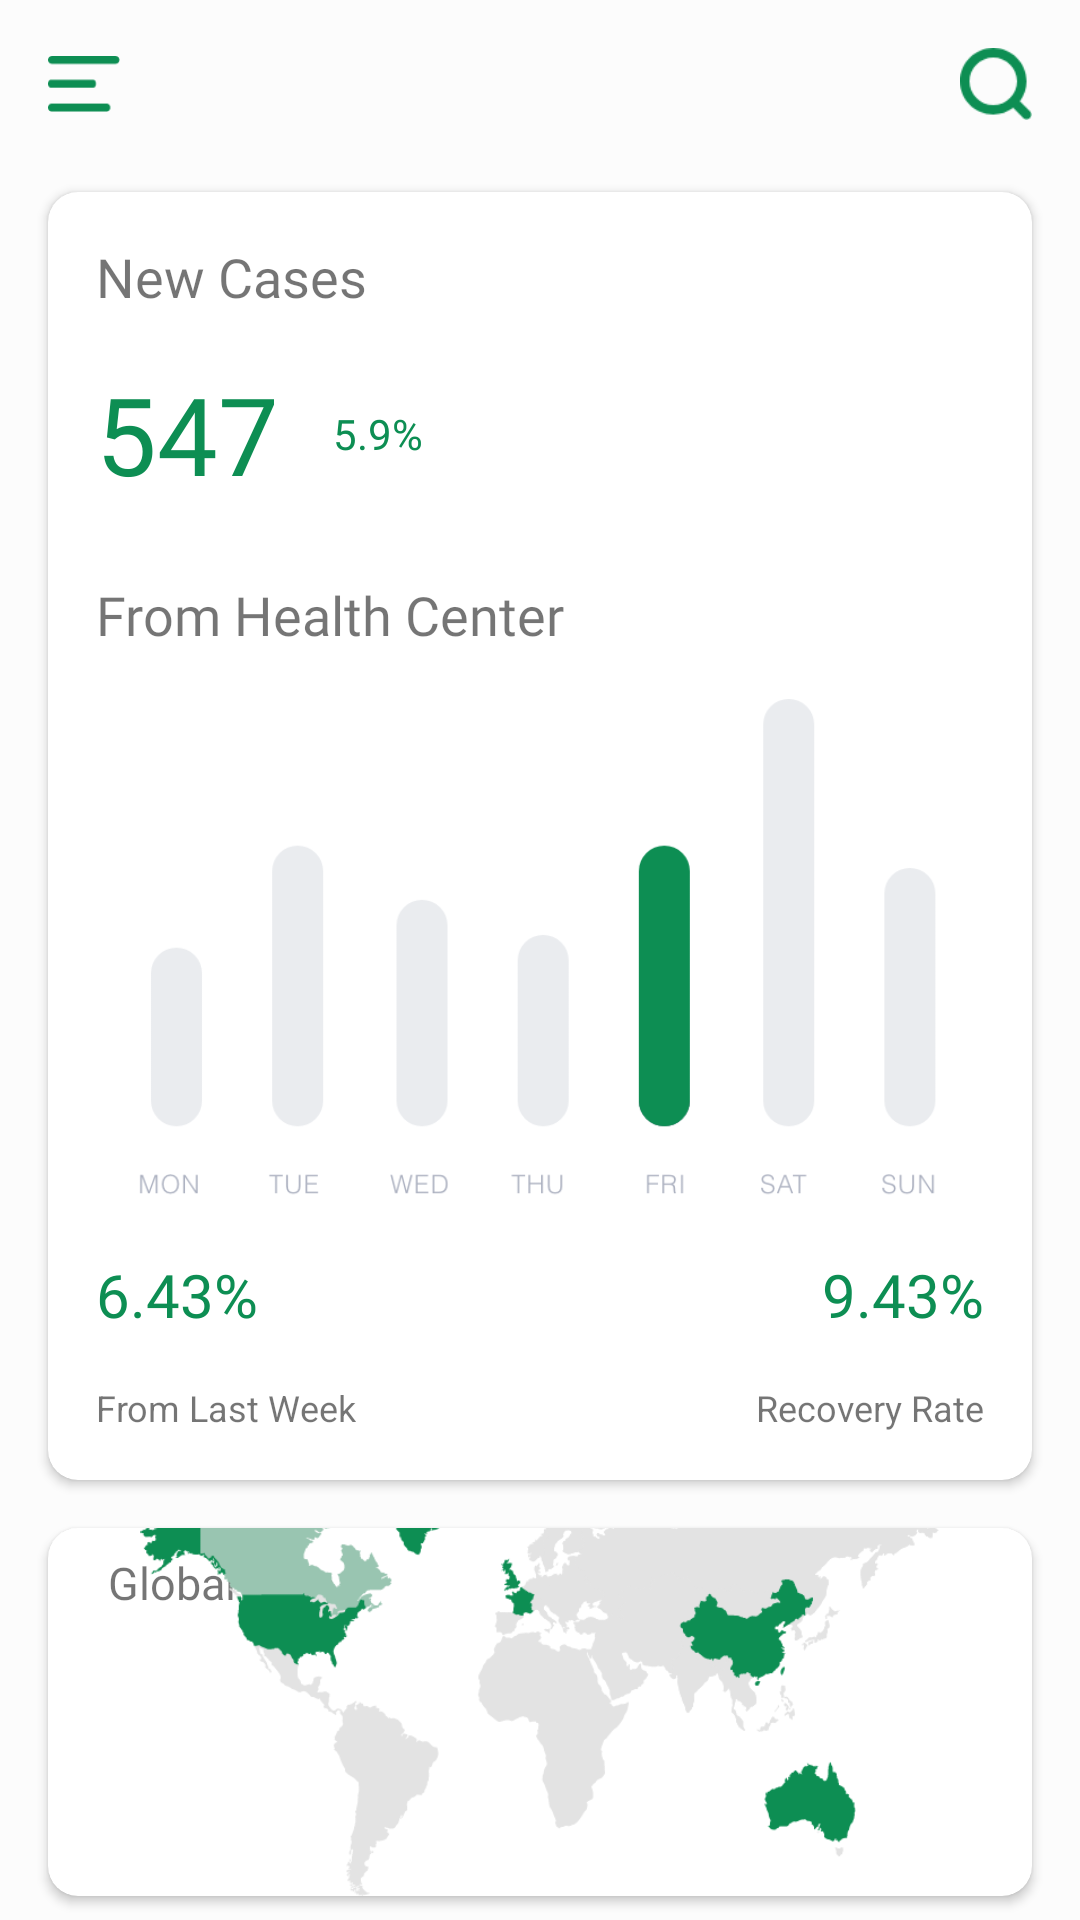

Named icons in this screenshot (1080px x 1920px) and their bounding boxes, (x1, y1, x2, y2):
menu: (48, 56, 120, 112)
search: (960, 48, 1032, 120)
